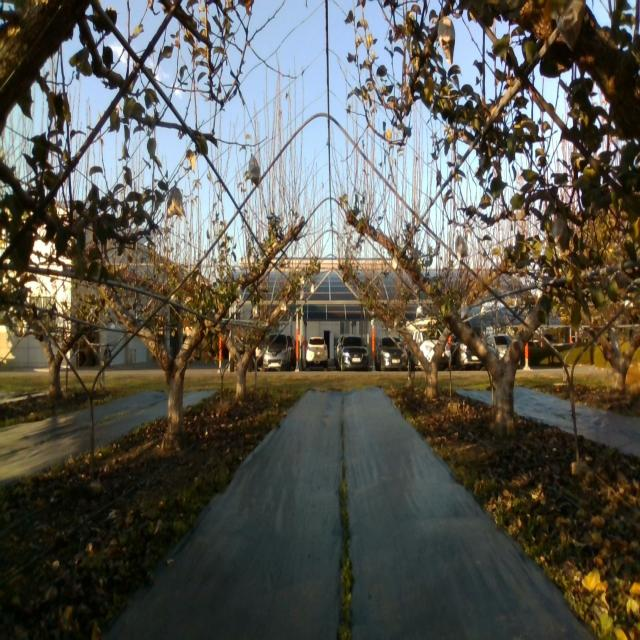pearbags: (438, 17, 456, 64), (167, 186, 186, 218), (249, 155, 260, 187), (456, 234, 468, 260), (460, 300, 470, 320)
